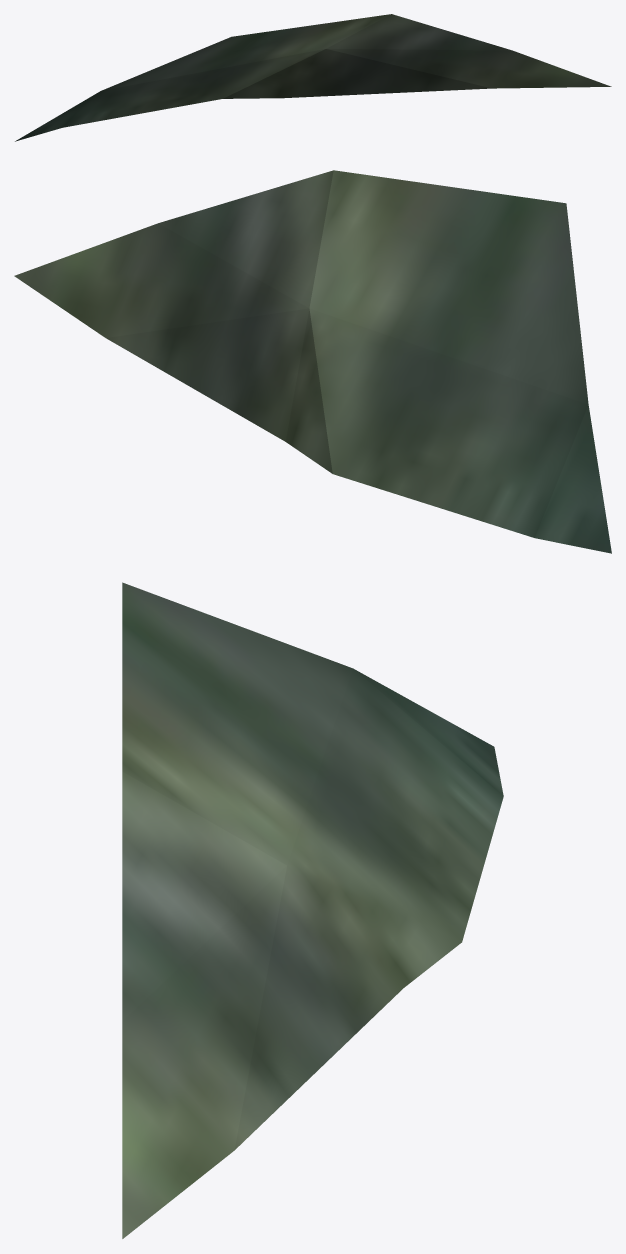
The picture shows the model from 3 angles, top to bottom: view 1: azimuth 30°, elevation 25°; view 2: azimuth 150°, elevation 25°; view 3: azimuth 270°, elevation 25°; orthographic projection. The views are drawn at different scales.
Bounding box in the file's own units: 6.43 × 1.74 × 2.1.
1 material, 1 textured.
